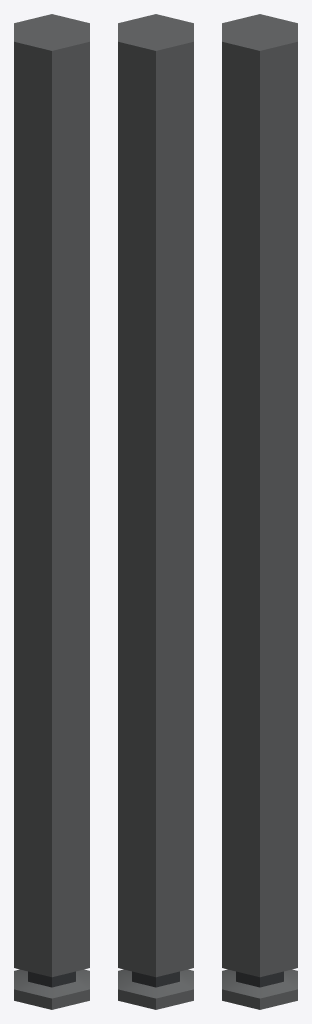
The model's file is SM_Prop_Drinks_Shelves_01.005.obj.
3 views of the same model, side by side, from view 1: azimuth 90°, elevation 25°; view 2: azimuth 210°, elevation 25°; view 3: azimuth 270°, elevation 25° (orthographic).
Parts seen in each view (by area): view 1: SM_Prop_Drinks_Shelves_01.005_0; view 2: SM_Prop_Drinks_Shelves_01.005_0; view 3: SM_Prop_Drinks_Shelves_01.005_0.
Part boxes in pixels (x1,y1,x2,y2): SM_Prop_Drinks_Shelves_01.005_0: [14, 14, 89, 1009]; SM_Prop_Drinks_Shelves_01.005_0: [118, 14, 193, 1009]; SM_Prop_Drinks_Shelves_01.005_0: [222, 14, 297, 1009].
Size of the model in its own units: 0.0682 by 0.8253 by 0.0591.
Materials: 1 (1 with a texture image).
